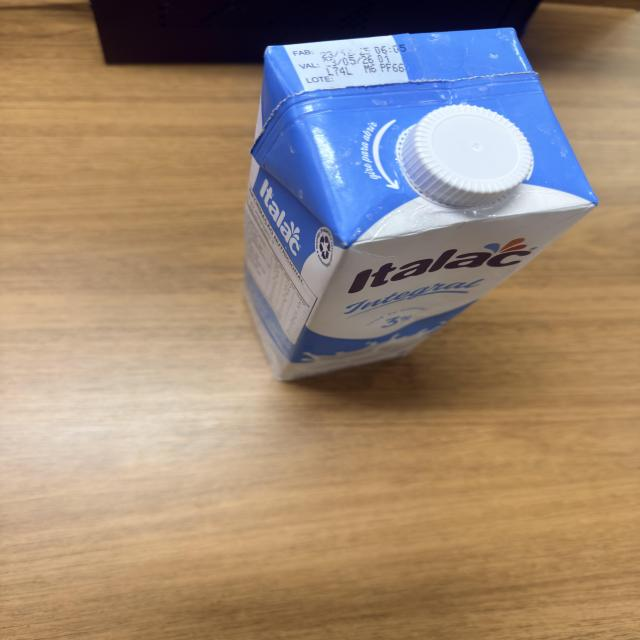Caixa de Leite: (241, 29, 596, 379)
